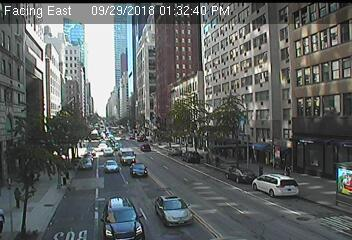car: (102, 196, 145, 240), (251, 173, 299, 198), (155, 195, 193, 226), (225, 167, 257, 184), (118, 147, 137, 166), (130, 163, 148, 177), (181, 151, 200, 163), (104, 159, 119, 173), (167, 147, 182, 158), (80, 158, 93, 170), (103, 147, 114, 157), (140, 144, 151, 152)
